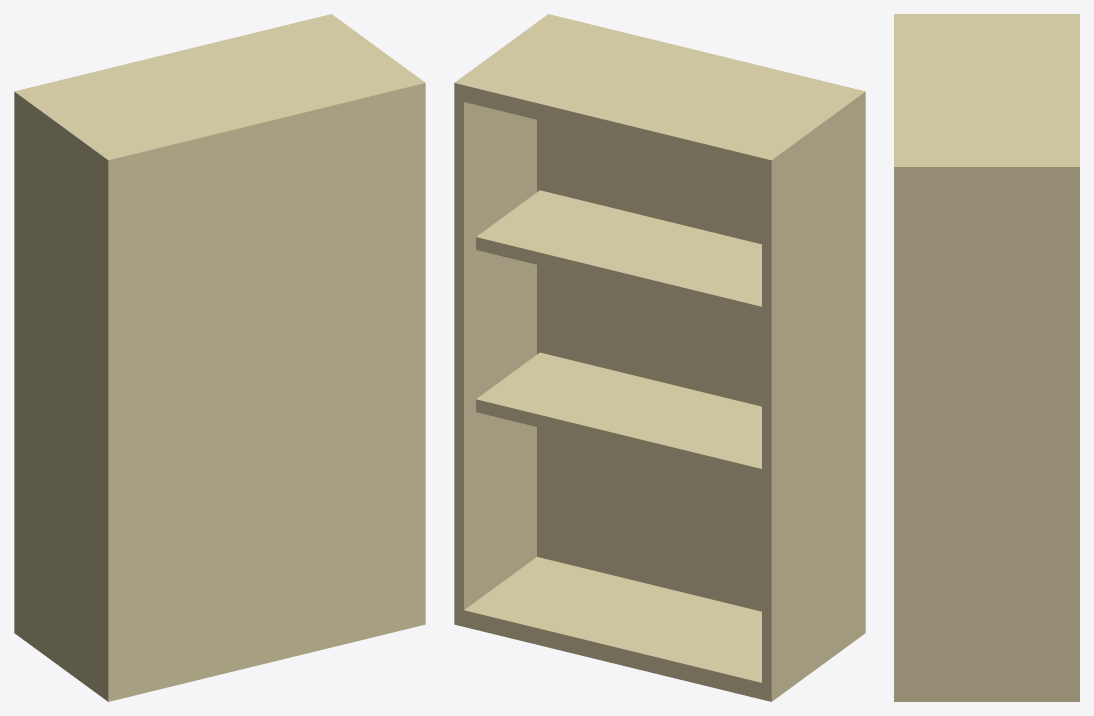
Rendered from аптечка ванная.fbx.
3 renders of one model, left to right at view 1: azimuth 30°, elevation 25°; view 2: azimuth 150°, elevation 25°; view 3: azimuth 270°, elevation 25°, orthographic.
Visible parts, largest first — view 1: Cube.047; view 2: Cube.047; view 3: Cube.047.
Part boxes in pixels (bbox=[...]): Cube.047: bbox=[14, 14, 425, 701]; Cube.047: bbox=[454, 14, 865, 701]; Cube.047: bbox=[894, 14, 1079, 701].
Size of the model in its own units: 388 by 633 by 199.
